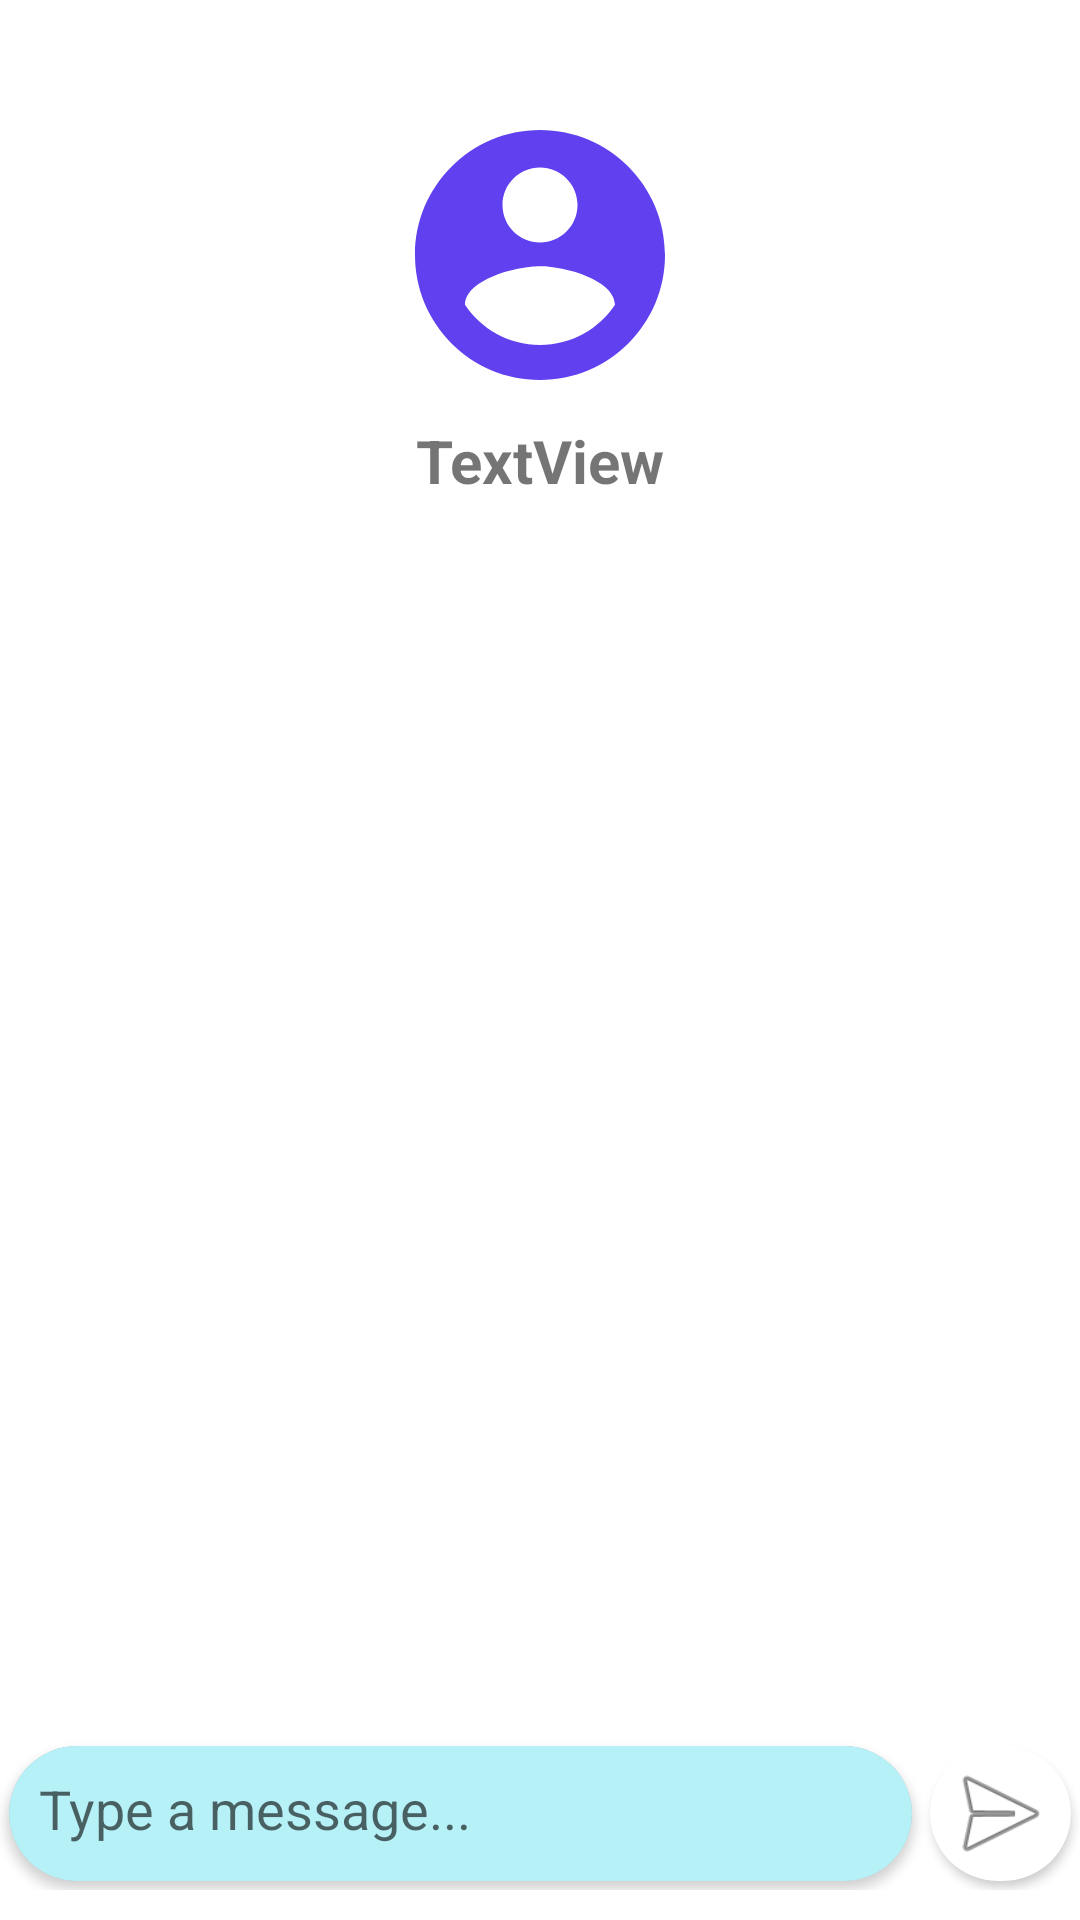

Screen size 1080×1920. Icon name, then its box in pixels as (x1, y1, x2, y2):
account circle: (415, 130, 665, 380)
send: (962, 1776, 1040, 1852)
